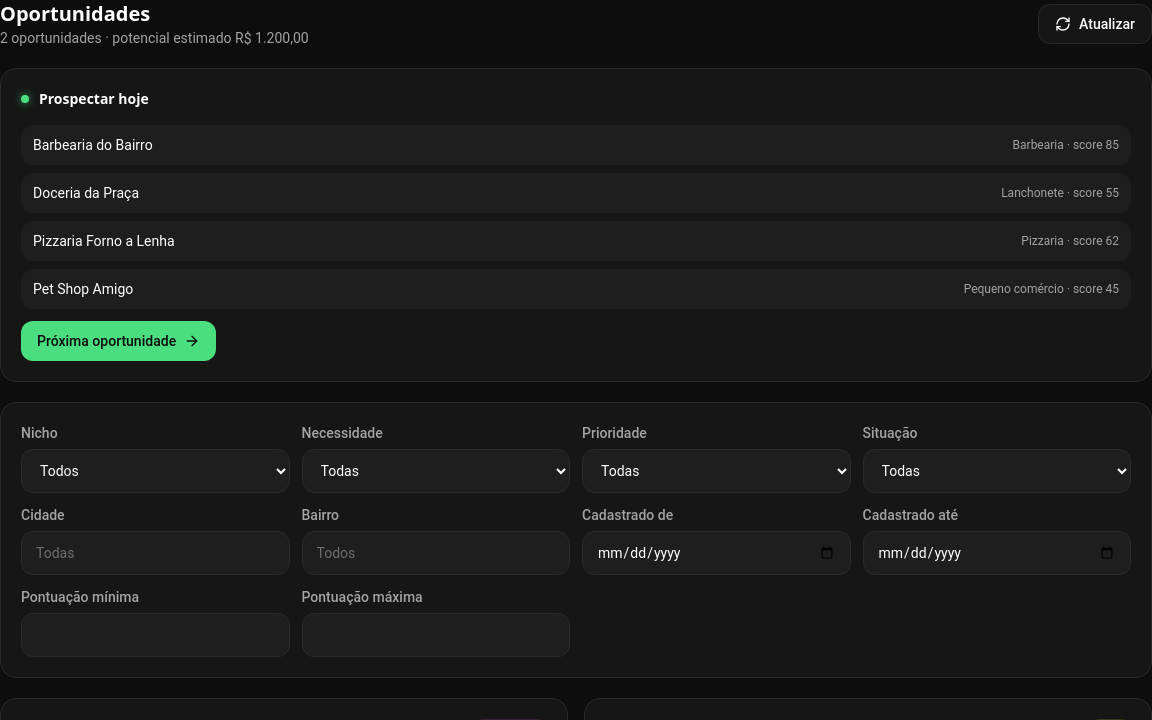
Test: OpportunitiesPage potencial estimado › não afirma contagem enquanto a consulta não respondeu nem quando falhou
Expected: the text "Carregando oportunidades…" is shown, x1=0 y1=28 x2=309 y2=48
Click the button "Atualizar" at (1095, 24), box x1=1038 y1=4 x2=1151 y2=44
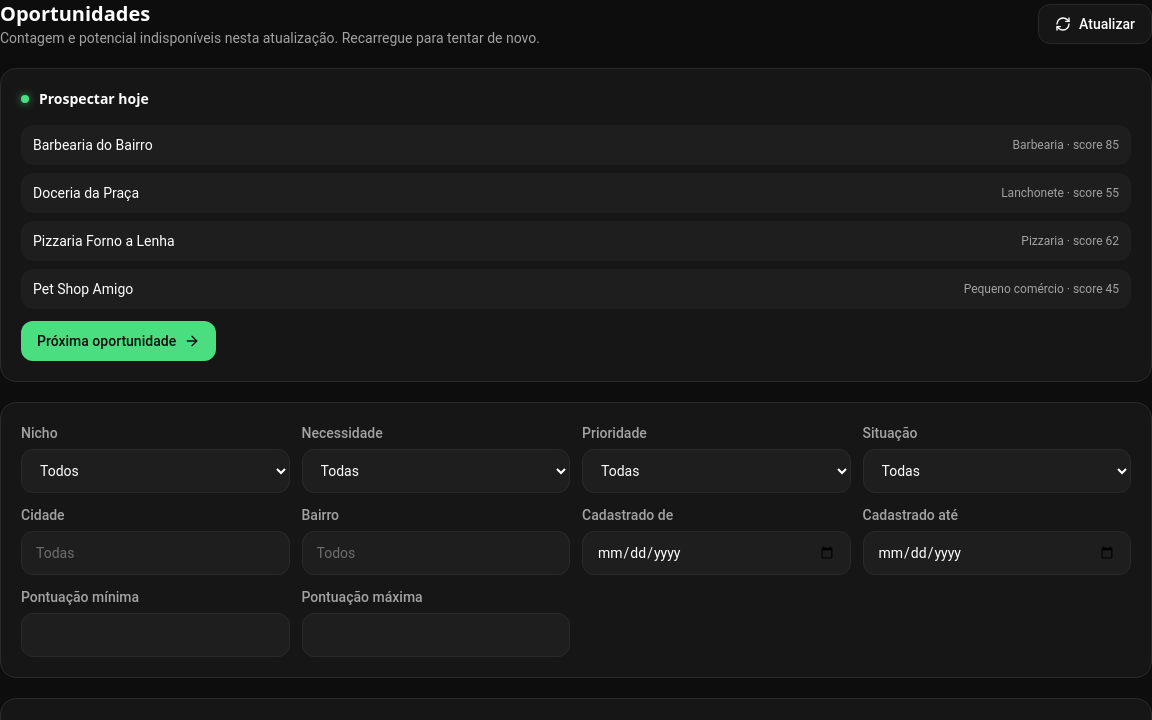
Expected: the text "Contagem e potencial indisponíveis nesta atualização. Recarregue para tentar de novo." is shown, x1=0 y1=30 x2=540 y2=46
Expected: the text "potencial estimado" is gone
